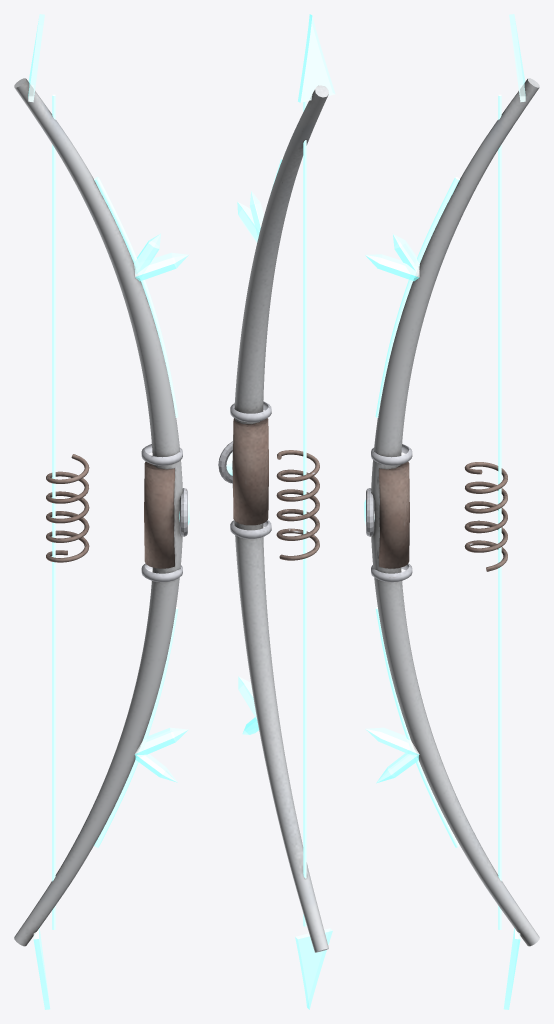
Rendered from arma_lend_arco_gelo.glb.
The picture shows the model from 3 angles, left to right: view 1: azimuth 90°, elevation 25°; view 2: azimuth 210°, elevation 25°; view 3: azimuth 270°, elevation 25°; orthographic projection.
Visible parts, largest first — view 1: arma_lend_arco_gelo, corda, filete1, filete-1, ac_arco10, ac_arco-11, lamina_ponta1, ac_arco11, lamina_ponta-1, ac_arco-10; view 2: arma_lend_arco_gelo, corda, lamina_ponta1, lamina_ponta-1, ac_arco10, ac_arco11, ac_arco-11; view 3: arma_lend_arco_gelo, corda, filete1, filete-1, ac_arco10, ac_arco-11, lamina_ponta1, ac_arco11, ac_arco-10, lamina_ponta-1.
Boxes of the visible parts, box(x1,y1,x2,y2) form: arma_lend_arco_gelo: box(14, 78, 187, 946); corda: box(52, 94, 55, 929); filete1: box(94, 177, 178, 417); filete-1: box(94, 607, 178, 847); ac_arco10: box(135, 252, 188, 281); ac_arco-11: box(134, 727, 188, 757); lamina_ponta1: box(28, 14, 44, 102); ac_arco11: box(134, 233, 160, 277); lamina_ponta-1: box(33, 928, 50, 1009); ac_arco-10: box(135, 749, 177, 782); arma_lend_arco_gelo: box(218, 85, 328, 952); corda: box(303, 101, 306, 926); lamina_ponta1: box(298, 14, 335, 102); lamina_ponta-1: box(295, 928, 332, 1009); ac_arco10: box(237, 201, 260, 242); ac_arco11: box(249, 191, 264, 236); ac_arco-11: box(238, 676, 257, 719); arma_lend_arco_gelo: box(366, 78, 539, 946); corda: box(498, 94, 501, 929); filete1: box(375, 177, 459, 417); filete-1: box(375, 607, 459, 847); ac_arco10: box(365, 254, 419, 281); ac_arco-11: box(365, 727, 419, 756); lamina_ponta1: box(509, 14, 525, 102); ac_arco11: box(393, 234, 419, 277); ac_arco-10: box(376, 750, 418, 783); lamina_ponta-1: box(503, 928, 520, 1009).
Bounding box in the file's own units: 0.0728 × 1.62 × 0.2593.
Materials: 11 (1 with a texture image).
